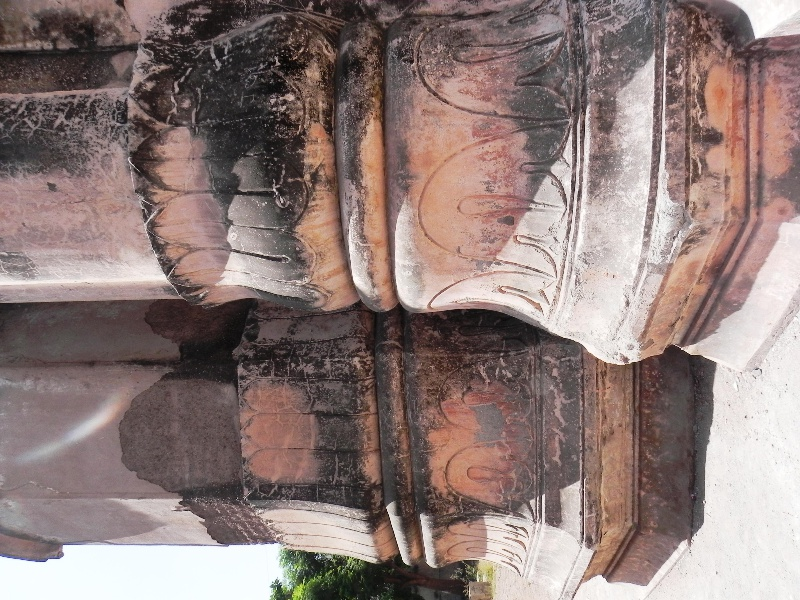Spalling: (467, 397, 518, 455)
